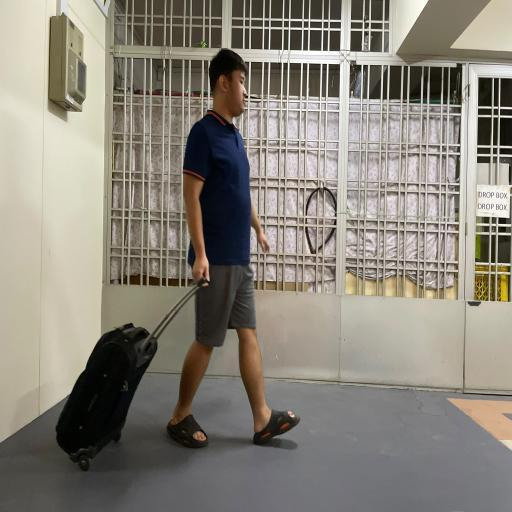person_right: (46, 45, 296, 472)
